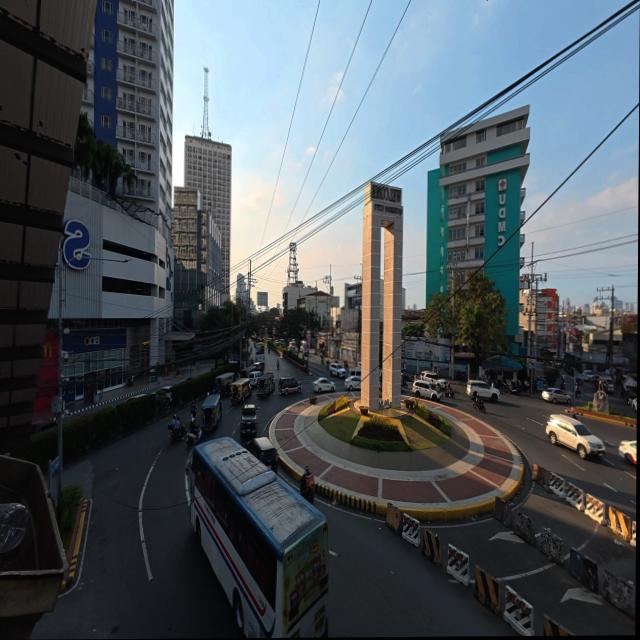Jeepneys: (200, 393, 221, 432), (230, 378, 251, 404), (215, 372, 235, 395), (257, 372, 275, 397)
bus: (189, 437, 327, 637), (254, 343, 263, 362)
car: (546, 415, 604, 459), (246, 436, 278, 474), (466, 380, 499, 401), (412, 380, 441, 401), (541, 388, 570, 404), (419, 372, 446, 389), (618, 440, 636, 464), (278, 377, 300, 395), (31, 420, 56, 434), (312, 378, 334, 393), (155, 386, 171, 402), (328, 362, 345, 377), (344, 375, 360, 389), (599, 377, 613, 392), (247, 370, 260, 386), (125, 393, 146, 402), (349, 369, 360, 381), (582, 371, 594, 380), (630, 397, 637, 411), (575, 374, 587, 382), (357, 361, 362, 369)
motorcycle: (299, 469, 313, 503), (186, 419, 201, 447), (169, 421, 185, 442), (169, 427, 185, 442), (472, 400, 485, 412), (443, 385, 454, 399), (507, 383, 519, 395), (401, 371, 412, 382), (400, 375, 406, 388), (344, 361, 349, 371), (276, 360, 278, 370)
trucks: (240, 404, 256, 436)
